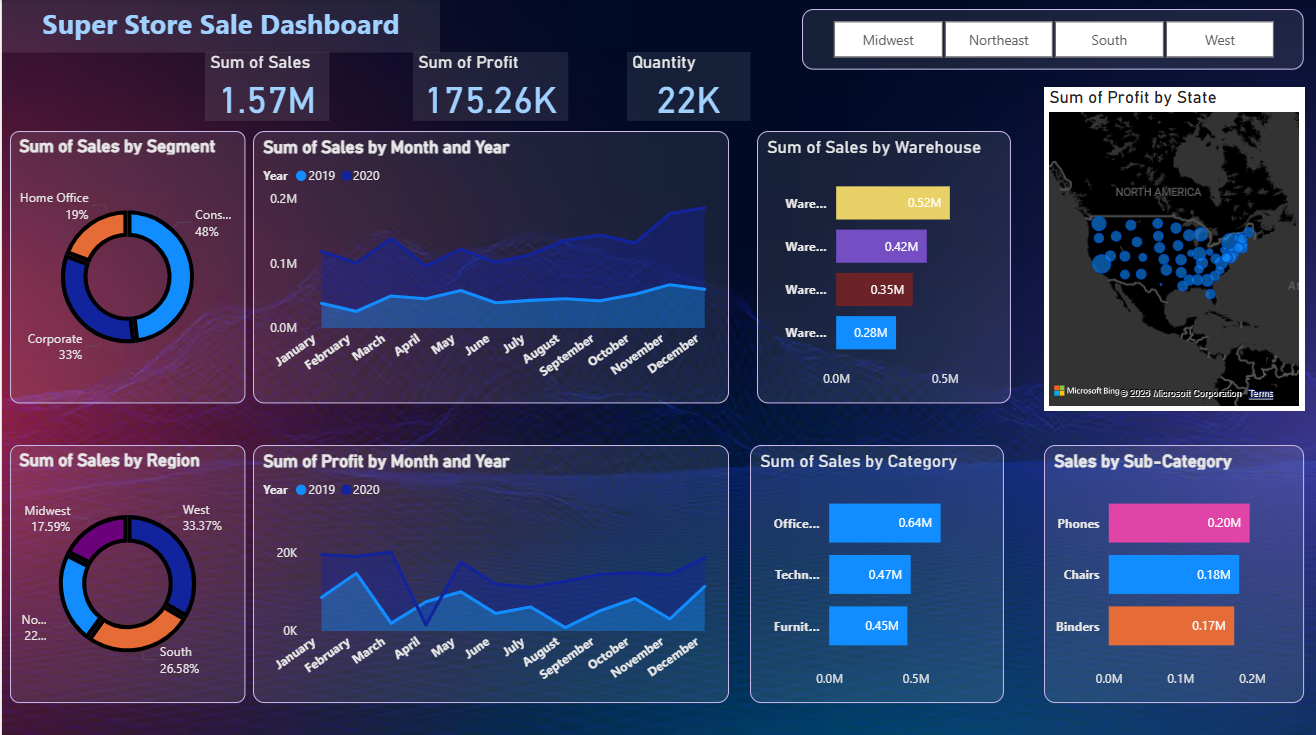

Layout of this report page (visuals, bound fields, positions):
{"tool":"powerbi","page":{"name":"Page 1","canvas":[1280,720],"ordinal":0},"visuals":[{"type":"clusteredBarChart","fields":{"Y":["Sum(clean_sales_data.Sales)"],"Category":["clean_sales_data.Category"]},"box":[727.5,433.8,247.1,250.9],"z":0},{"type":"clusteredBarChart","title":"Sales by Sub-Category","fields":{"Y":["Sum(clean_sales_data.Sales)"],"Category":["clean_sales_data.Sub-Category"]},"box":[1013.5,433.8,252.9,250.9],"z":1000},{"type":"stackedAreaChart","fields":{"Category":["clean_sales_data.Order_Date.Variation.Date Hierarchy.Month","clean_sales_data.Order_Date.Variation.Date Hierarchy.Day"],"Y":["Sum(clean_sales_data.Sales)"],"Series":["clean_sales_data.Order_Date.Variation.Date Hierarchy.Year"]},"box":[244.1,128.4,463,264.6],"z":2000},{"type":"stackedAreaChart","fields":{"Category":["clean_sales_data.Order_Date.Variation.Date Hierarchy.Month","clean_sales_data.Order_Date.Variation.Date Hierarchy.Day"],"Series":["clean_sales_data.Order_Date.Variation.Date Hierarchy.Year"],"Y":["Sum(clean_sales_data.Profit)"]},"box":[244.1,433.8,463,250.9],"z":3000},{"type":"clusteredBarChart","fields":{"Category":["clean_sales_data.Warehouse"],"Y":["Sum(clean_sales_data.Sales)"]},"box":[734.3,128.4,247.1,264.6],"z":4000},{"type":"donutChart","fields":{"Category":["clean_sales_data.Segment"],"Y":["Sum(clean_sales_data.Sales)"]},"box":[7.8,128.4,228.6,264.6],"z":5000},{"type":"donutChart","fields":{"Category":["clean_sales_data.Region"],"Y":["Sum(clean_sales_data.Sales)"]},"box":[7.8,433.8,228.6,250.9],"z":6000},{"type":"slicer","fields":{"Values":["clean_sales_data.Region"]},"box":[778.1,9.7,488.3,59.3],"z":7000},{"type":"textbox","box":[0,0,426,51.6],"z":8000},{"type":"card","title":"Sum of Sales","fields":{"Values":["Sum(clean_sales_data.Sales)"]},"box":[197.4,51.6,120.6,67.1],"z":9000},{"type":"card","title":"Sum of Profit","fields":{"Values":["Sum(clean_sales_data.Profit)"]},"box":[399.8,51.6,150.8,67.1],"z":10000},{"type":"card","title":" Quantity","fields":{"Values":["Sum(clean_sales_data.Quantity)"]},"box":[607.9,51.6,119.6,67.1],"z":11000},{"type":"map","fields":{"Category":["clean_sales_data.State"],"Size":["Sum(clean_sales_data.Profit)"]},"box":[1013.5,85.6,252.9,315.1],"z":12000}]}

Visuals, with their boxes in screenshot pixels (x1, y1, x2, y2), scaled from the page's 1280x720 canvas onto the 1316x735 screenshot:
clusteredBarChart - Sum(clean_sales_data.Sales) x clean_sales_data.Category: select_region(748, 443, 1002, 699)
"Sales by Sub-Category" clusteredBarChart: select_region(1042, 443, 1302, 699)
stackedAreaChart - clean_sales_data.Order_Date.Variation.Date Hierarchy.Month x clean_sales_data.Order_Date.Variation.Date Hierarchy.Day: select_region(251, 131, 727, 401)
stackedAreaChart - clean_sales_data.Order_Date.Variation.Date Hierarchy.Month x clean_sales_data.Order_Date.Variation.Date Hierarchy.Day: select_region(251, 443, 727, 699)
clusteredBarChart - clean_sales_data.Warehouse x Sum(clean_sales_data.Sales): select_region(755, 131, 1009, 401)
donutChart - clean_sales_data.Segment x Sum(clean_sales_data.Sales): select_region(8, 131, 243, 401)
donutChart - clean_sales_data.Region x Sum(clean_sales_data.Sales): select_region(8, 443, 243, 699)
slicer - clean_sales_data.Region: select_region(800, 10, 1302, 70)
textbox: select_region(0, 0, 438, 53)
"Sum of Sales" card: select_region(203, 53, 327, 121)
"Sum of Profit" card: select_region(411, 53, 566, 121)
" Quantity" card: select_region(625, 53, 748, 121)
map - clean_sales_data.State x Sum(clean_sales_data.Profit): select_region(1042, 87, 1302, 409)
